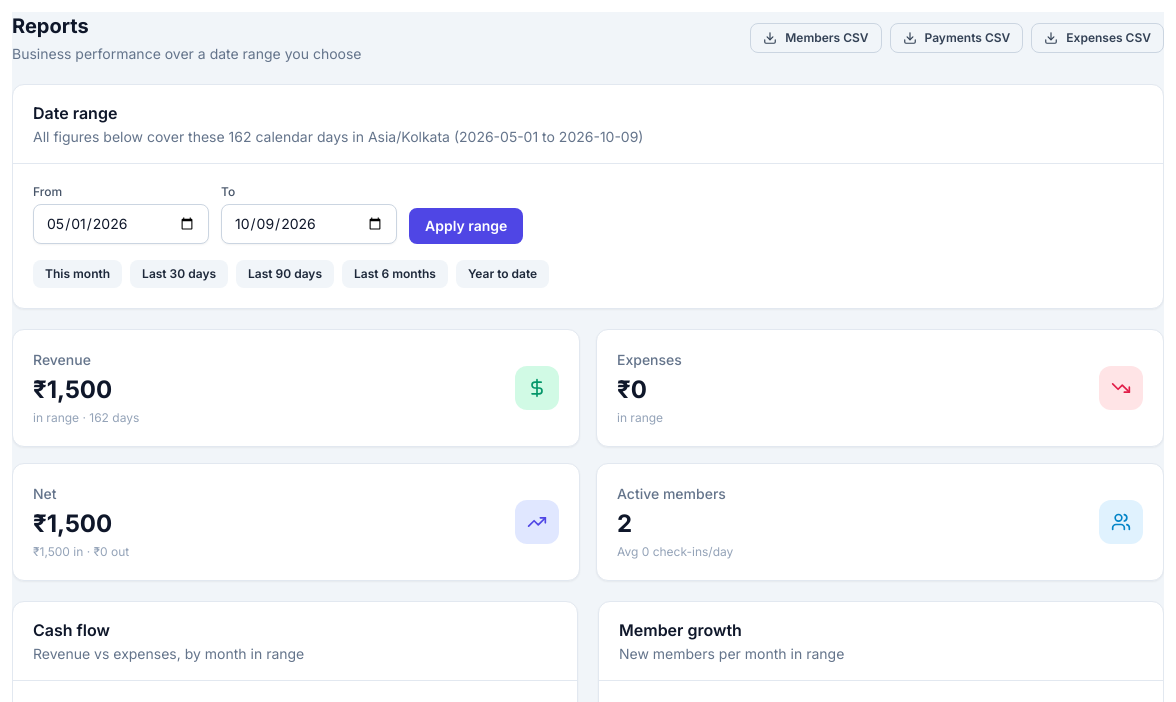
Test: Reports date range › excludes payments outside the selected range from the revenue tile
Expected: the heading "Date range" is shown, [33,103,117,123]
Type "2026-01-01" into the date field labelled "From" at (121,224), box [33,204,209,244]
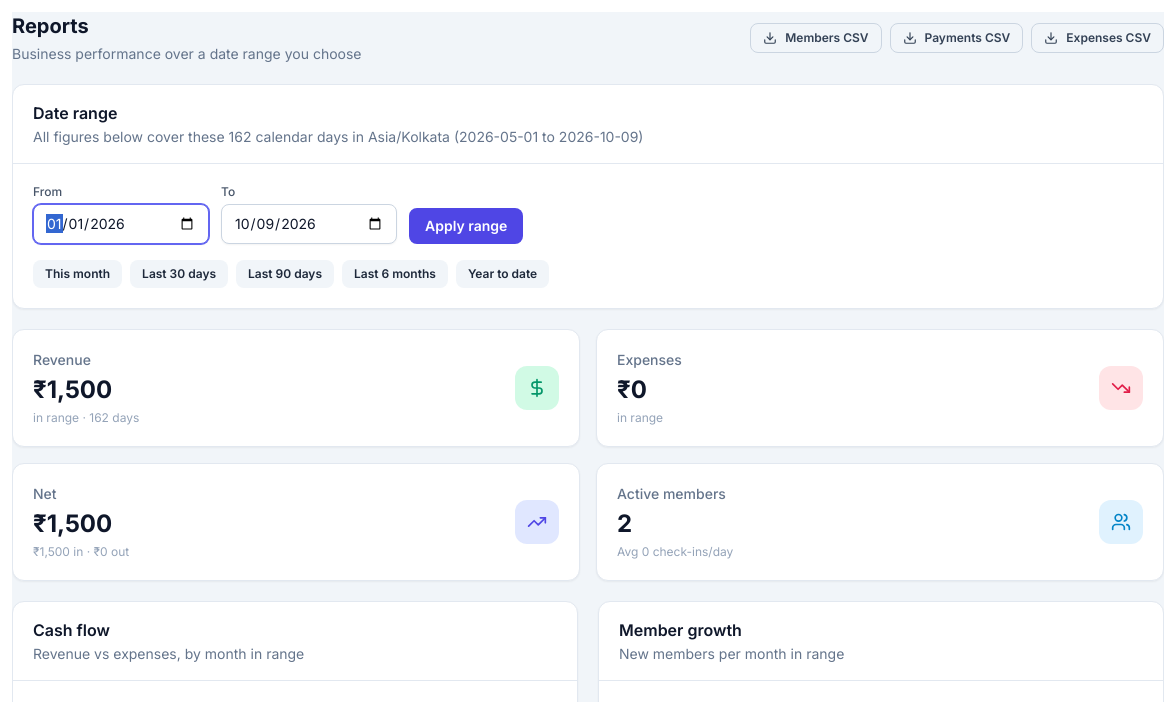
Type "2026-01-31" into the date field labelled "To" at (309,224), box [221,204,397,244]
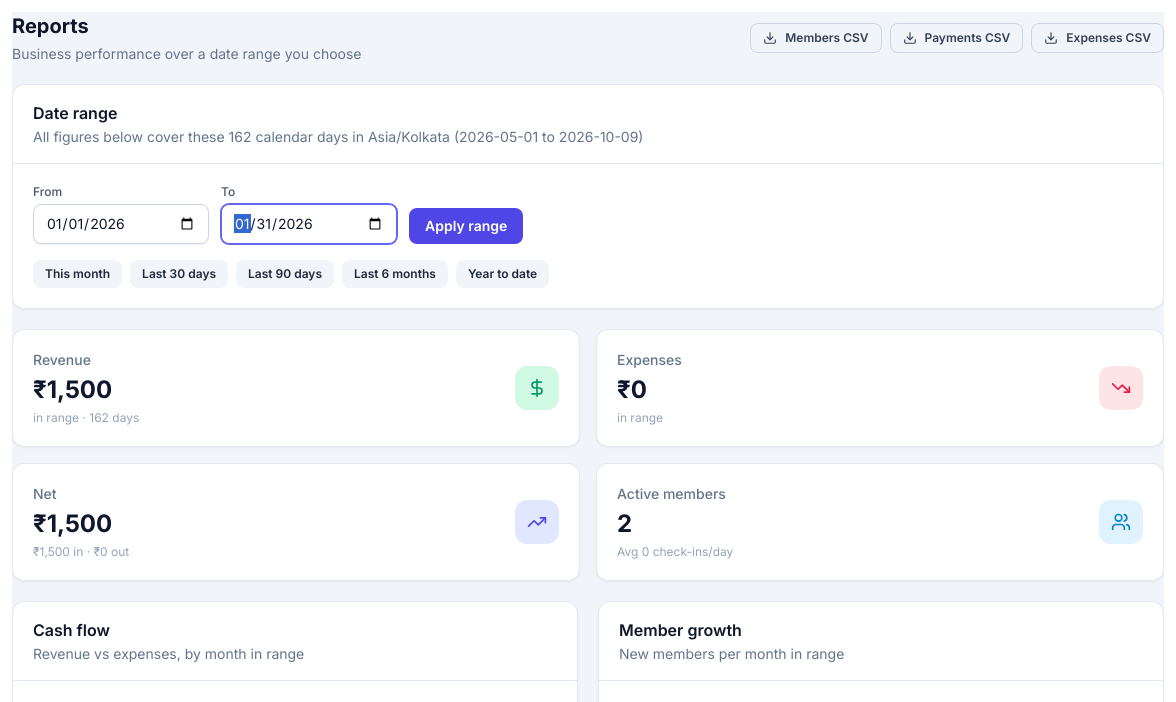
Click the button "Apply range" at (466,226), box [409,208,523,244]
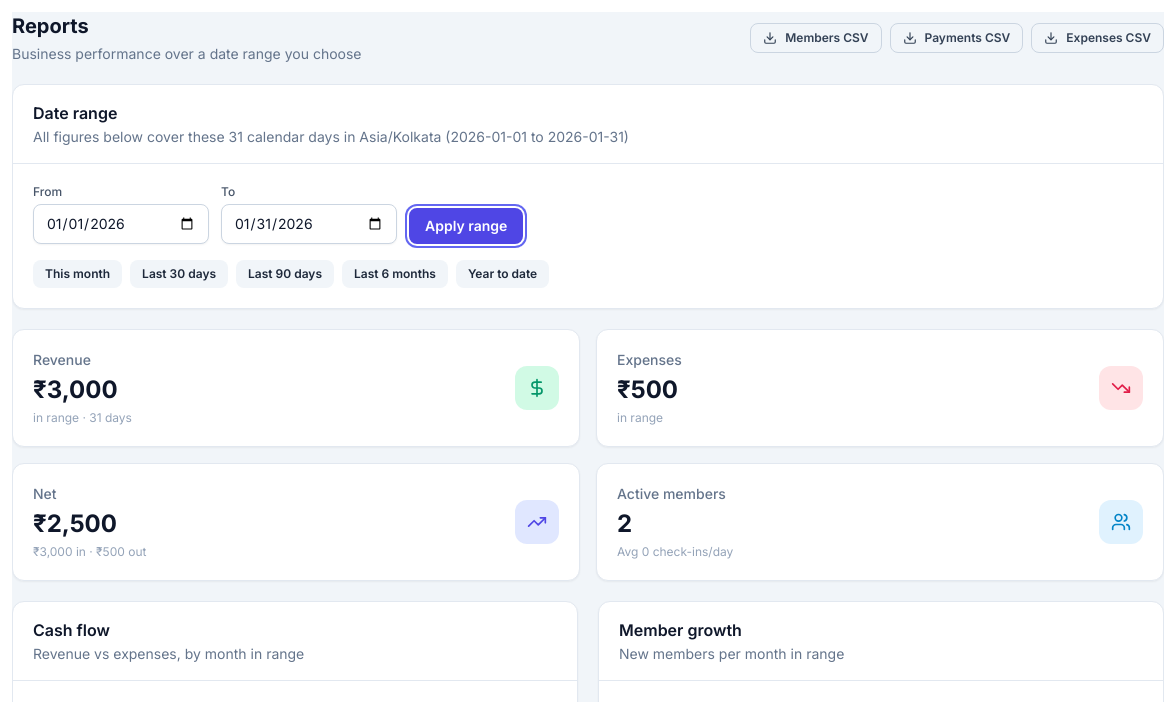
Expected: the text "Revenue" reads "Revenue ₹3,000 in range · 31 days", [33,375,118,404]
